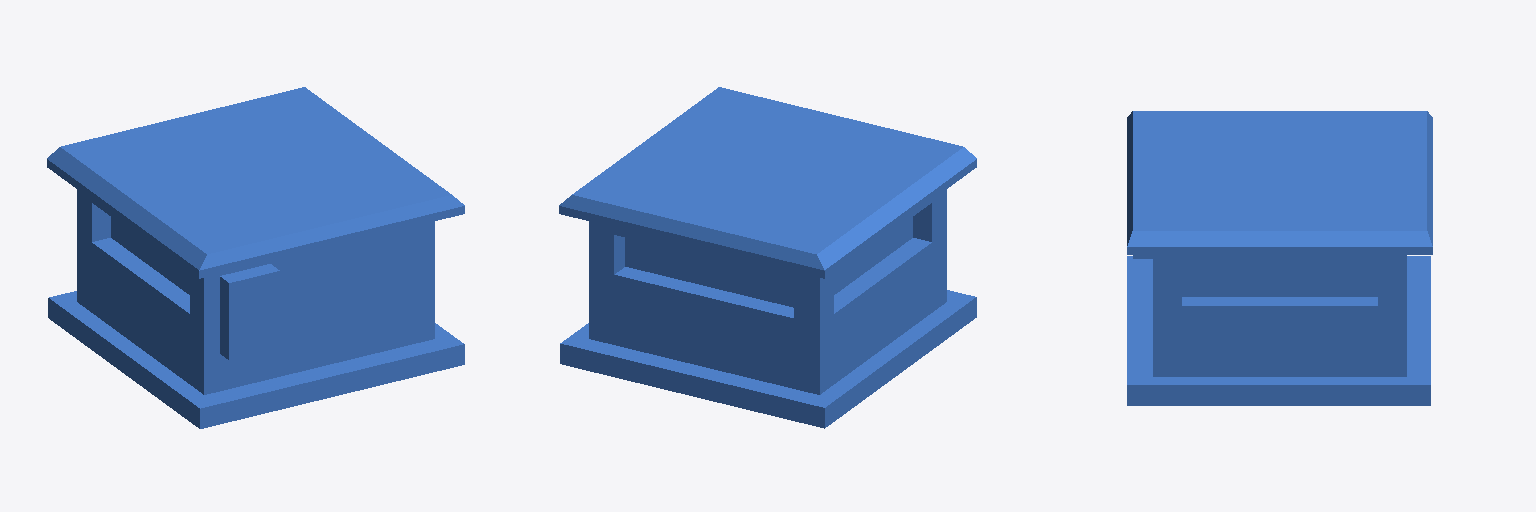
Rendered from House.obj.
The picture shows the model from 3 angles: view 1: azimuth 30°, elevation 25°; view 2: azimuth 150°, elevation 25°; view 3: azimuth 270°, elevation 25°; orthographic projection.
Visible parts, largest first — view 1: RadiokHouse; view 2: RadiokHouse; view 3: RadiokHouse.
Part boxes in pixels (left/top/right/bottom): RadiokHouse: left=47, top=87, right=464, bottom=428; RadiokHouse: left=559, top=87, right=976, bottom=428; RadiokHouse: left=1127, top=111, right=1432, bottom=405.
Size of the model in its own units: 20.1 by 12.32 by 20.01.